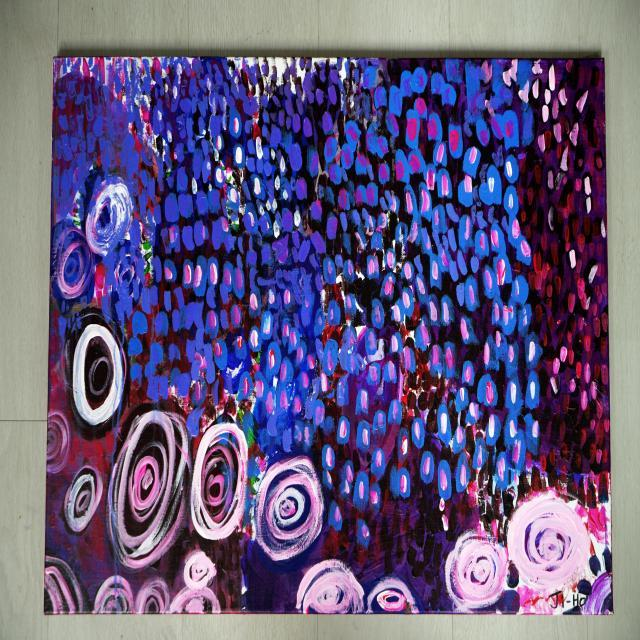painting: (45, 57, 612, 614)
